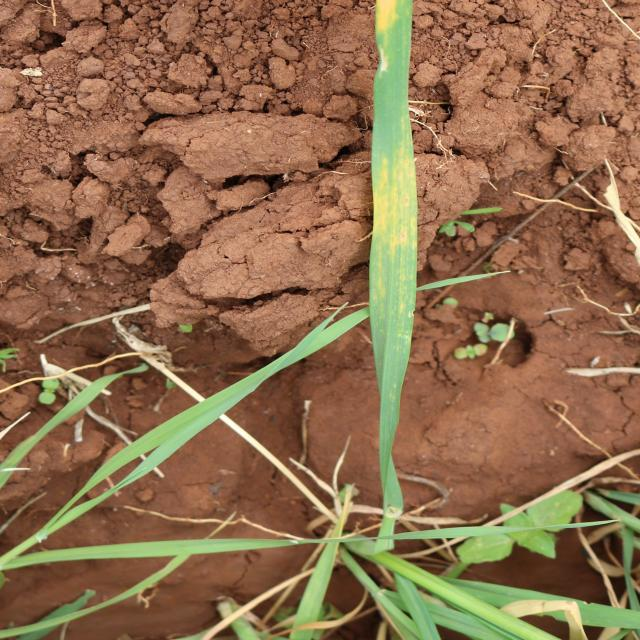Stripe Rust: (397, 160, 416, 246), (376, 0, 397, 33), (373, 194, 388, 240), (400, 114, 410, 158), (382, 158, 389, 189)
